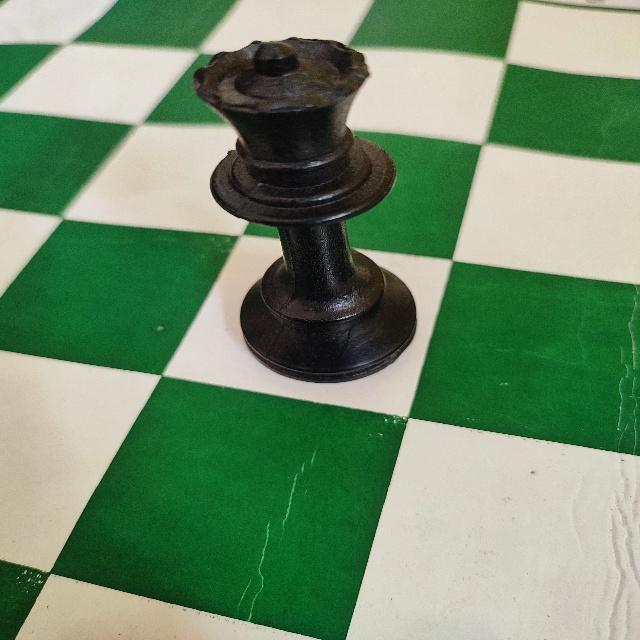Queen: (189, 34, 420, 386)
